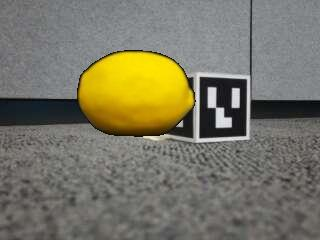lemon: (78, 50, 196, 137)
